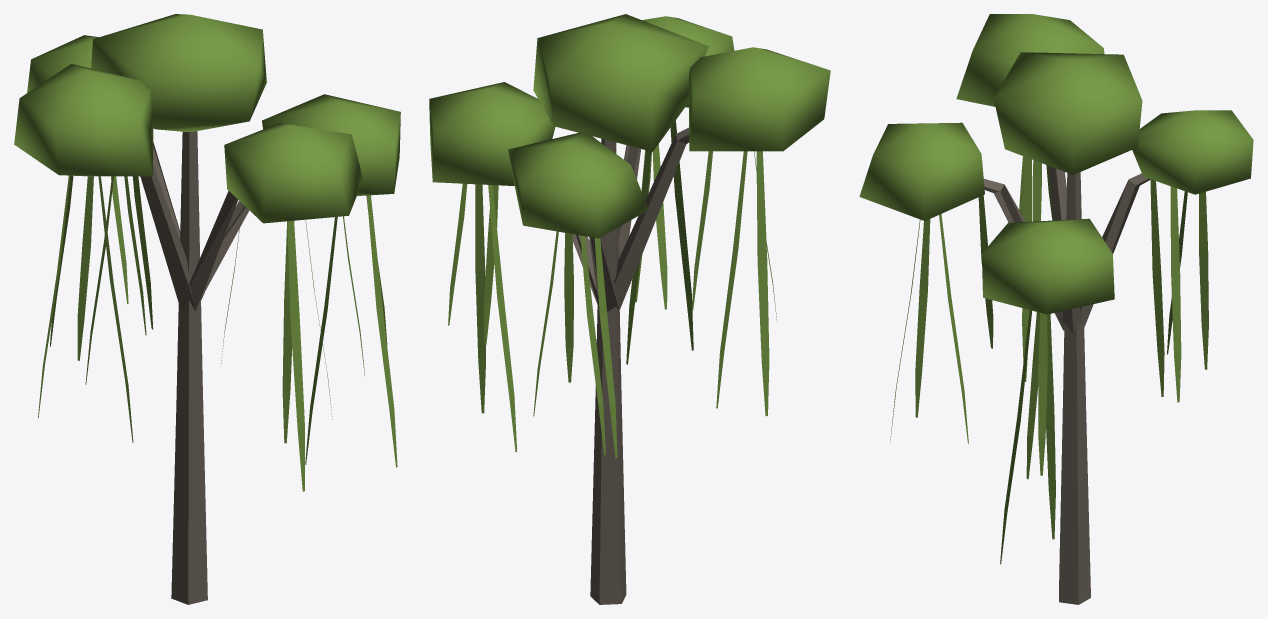
The picture shows the model from 3 angles, left to right: view 1: azimuth 30°, elevation 25°; view 2: azimuth 150°, elevation 25°; view 3: azimuth 270°, elevation 25°; orthographic projection. The views are drawn at different scales.
Parts seen in each view (by area): view 1: 树_15; view 2: 树_15; view 3: 树_15.
Boxes of the visible parts, x1,y1,x2,y2 form: 树_15: (14, 14, 400, 604); 树_15: (429, 14, 830, 604); 树_15: (859, 14, 1253, 604).
Size of the model in its own units: 5.81 by 8.6 by 5.72.
